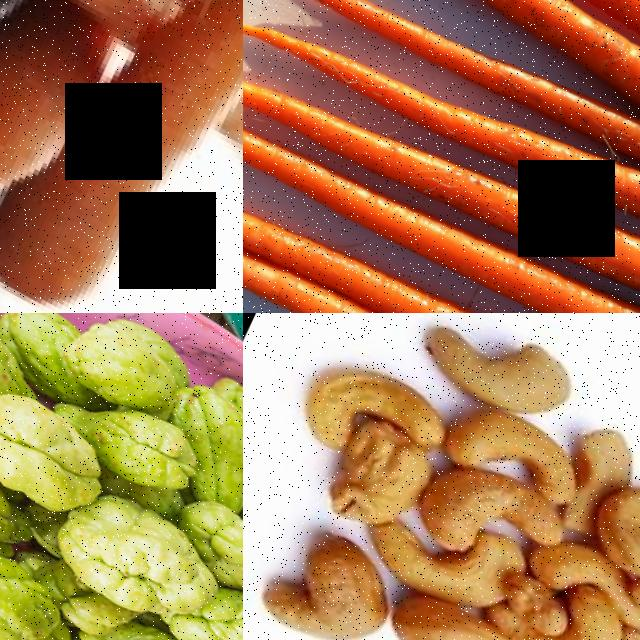carrot: (243, 0, 640, 295), (243, 33, 640, 313), (243, 0, 640, 256), (243, 107, 640, 313), (243, 0, 640, 192), (16, 0, 243, 313), (243, 145, 640, 313), (245, 0, 640, 122), (243, 208, 640, 313), (0, 0, 102, 208)
cashew: (243, 505, 405, 640), (365, 483, 524, 619), (413, 313, 587, 426), (428, 433, 553, 548), (453, 390, 579, 499), (322, 410, 430, 536), (533, 501, 624, 596), (565, 391, 640, 498), (591, 432, 640, 568), (552, 582, 634, 640)
chayote: (55, 367, 218, 502), (63, 482, 206, 630), (63, 313, 216, 432), (0, 362, 117, 513), (53, 583, 243, 640), (174, 472, 243, 603), (0, 524, 75, 640), (0, 439, 45, 557)
